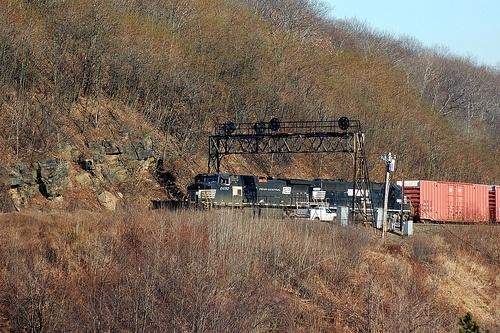car: (295, 202, 341, 224)
train: (186, 174, 500, 224)
